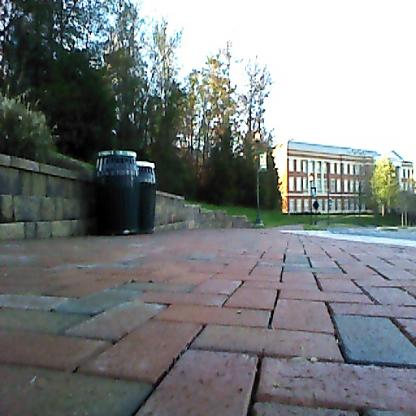Edge: (0, 211, 229, 266)
Sidewalk: (0, 229, 416, 416)
